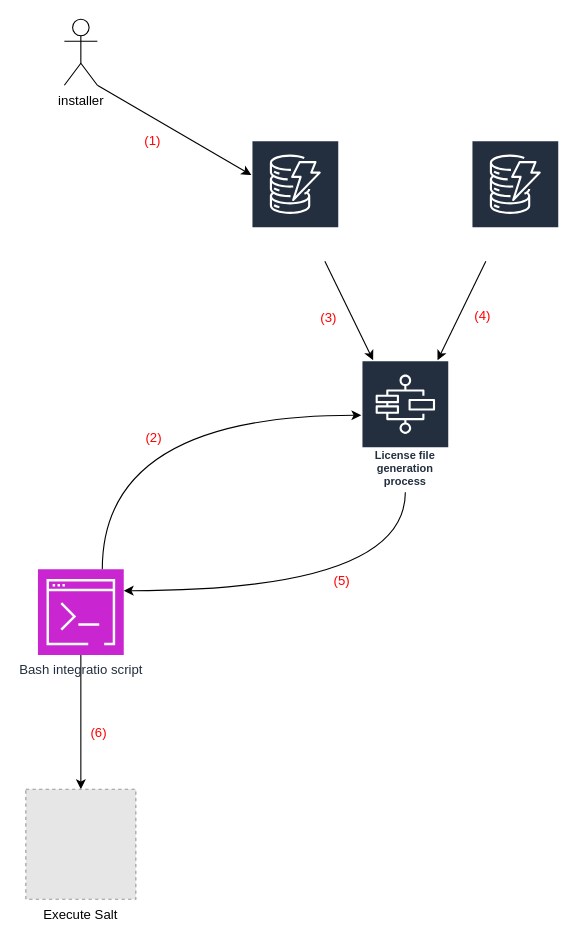
The diagram is 579 pixels wide and 942 high, and some of its shapes have lost their labels. Grey dashed boxes stand in for pictures. The box of each missing label's shape, as (x1, y1, x2, y2) in pixels:
Inventory: (250, 139, 339, 261)
Licenses: (470, 139, 559, 261)
